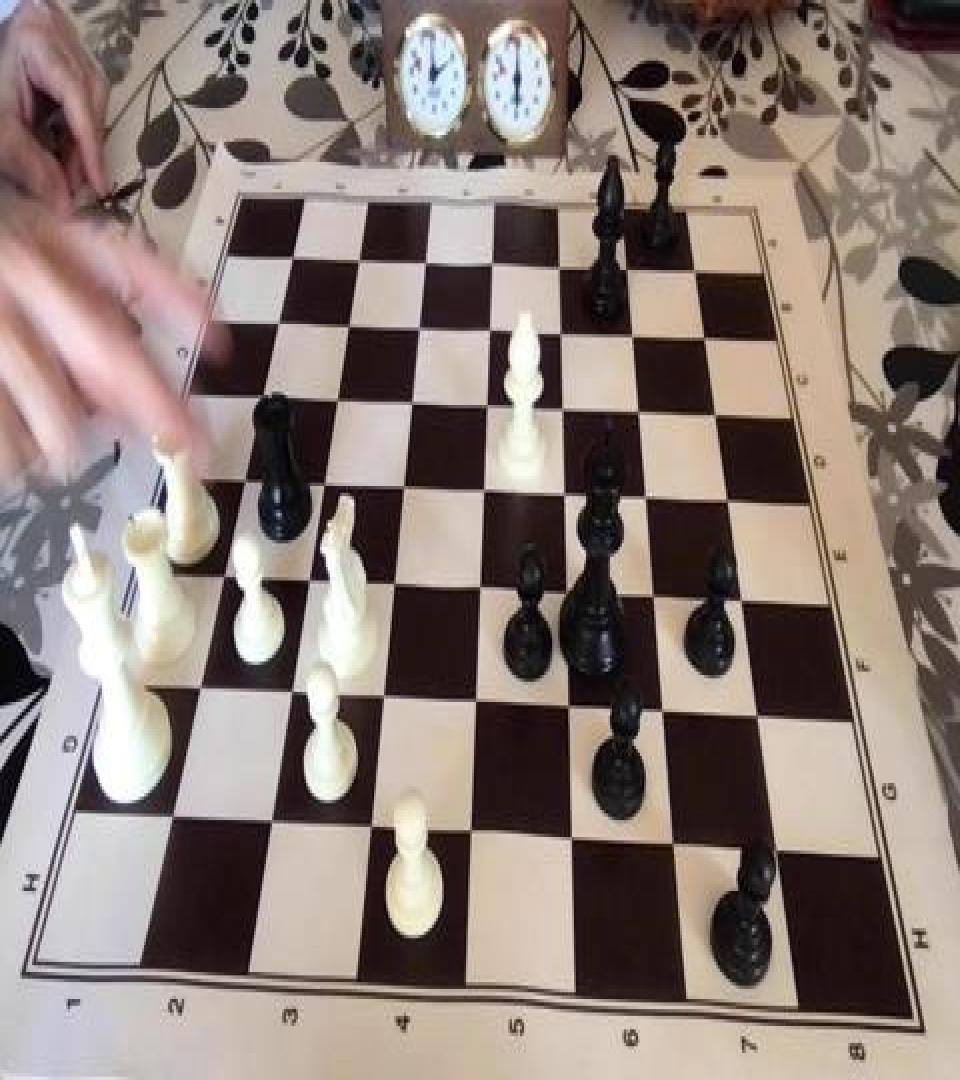xcorner: (399, 241, 423, 282), (332, 241, 356, 282), (266, 241, 290, 282), (254, 307, 278, 348), (540, 383, 564, 424), (465, 383, 489, 424), (390, 383, 414, 424), (315, 383, 339, 424), (240, 383, 264, 424), (705, 469, 729, 510), (625, 469, 649, 510), (544, 469, 568, 510), (464, 467, 488, 508), (384, 467, 408, 508), (304, 467, 328, 508), (224, 467, 248, 508), (636, 565, 660, 606), (550, 565, 574, 606), (464, 565, 488, 606), (741, 678, 765, 719), (648, 678, 672, 719), (555, 678, 579, 719), (562, 808, 586, 849), (462, 808, 486, 849), (666, 243, 690, 283), (599, 243, 623, 283), (532, 243, 556, 283), (466, 243, 490, 283), (678, 309, 702, 349), (607, 309, 631, 349), (536, 309, 560, 349), (465, 309, 489, 349), (395, 309, 419, 349), (324, 309, 348, 349), (691, 385, 715, 425), (615, 385, 639, 425), (722, 567, 746, 607), (378, 564, 402, 604), (292, 564, 316, 604), (206, 564, 230, 604), (463, 677, 487, 717), (370, 677, 394, 717), (278, 675, 302, 715), (186, 675, 210, 715), (764, 810, 788, 850), (663, 810, 687, 850), (362, 807, 386, 847), (262, 807, 286, 847), (162, 805, 186, 845)
